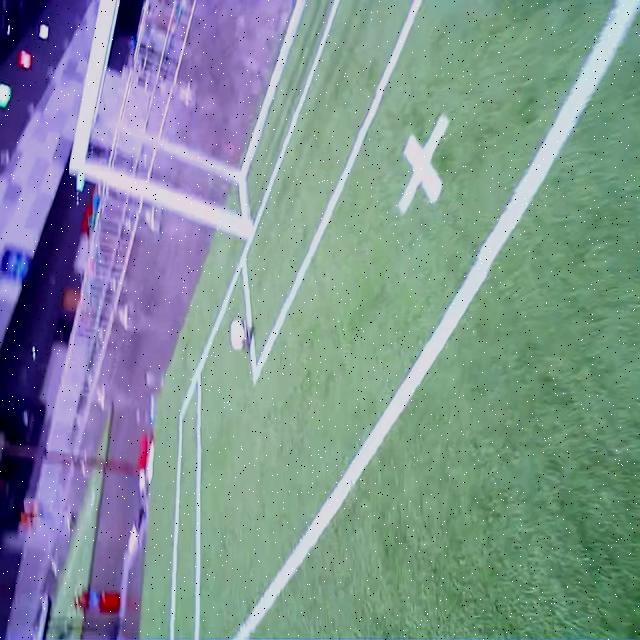ball: (229, 318, 250, 352)
